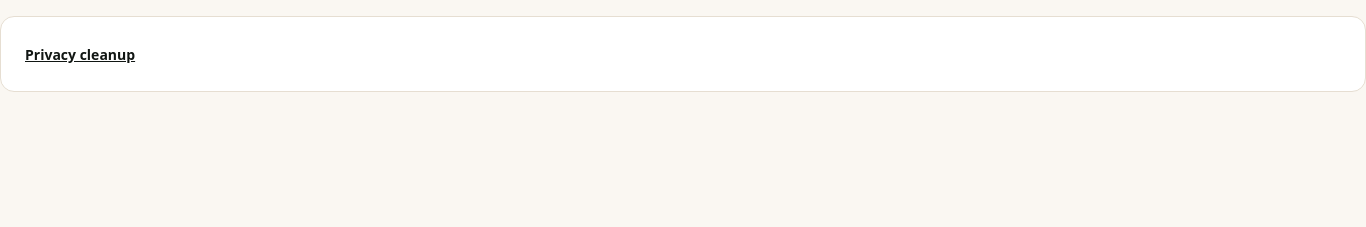
operator privacy cleanup › shows loading, a safe fetch error and an explicit read-only retry
Later steps or results of the test are not shown.
Click the button "Privacy cleanup": (80, 55) [25,45,135,65]
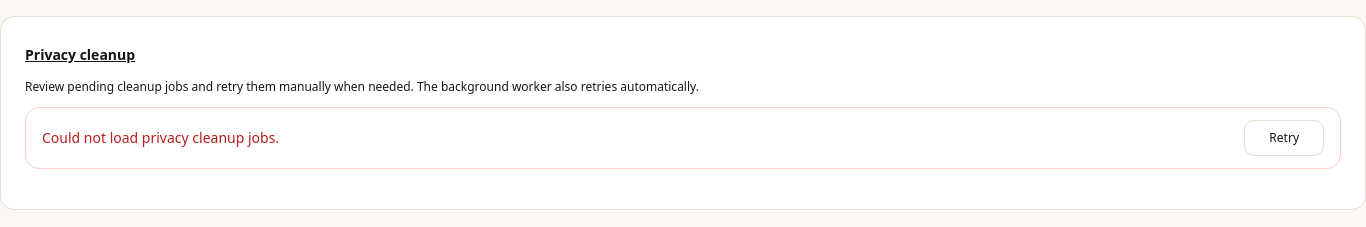
Now the message shows "Could not load privacy cleanup jobs.", box [42,128,279,147]
Click the button "Retry": (1284, 138) [1244,120,1324,156]
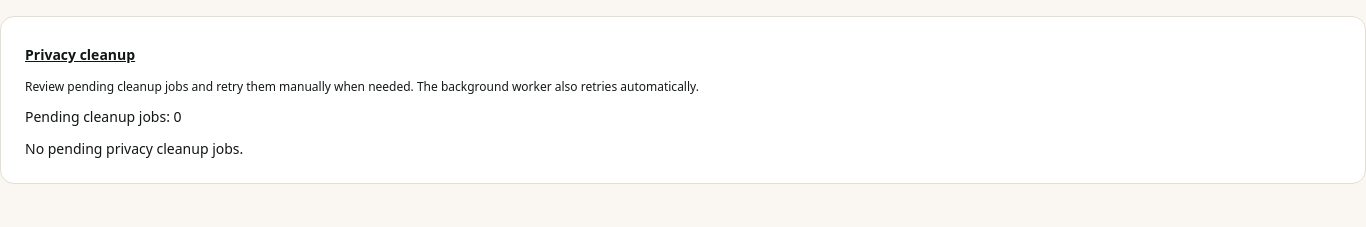
Now the text "No pending privacy cleanup jobs." is shown, box [25,139,243,158]
